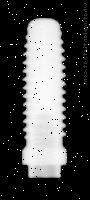Nobel Biocare: (22, 17, 67, 178)
